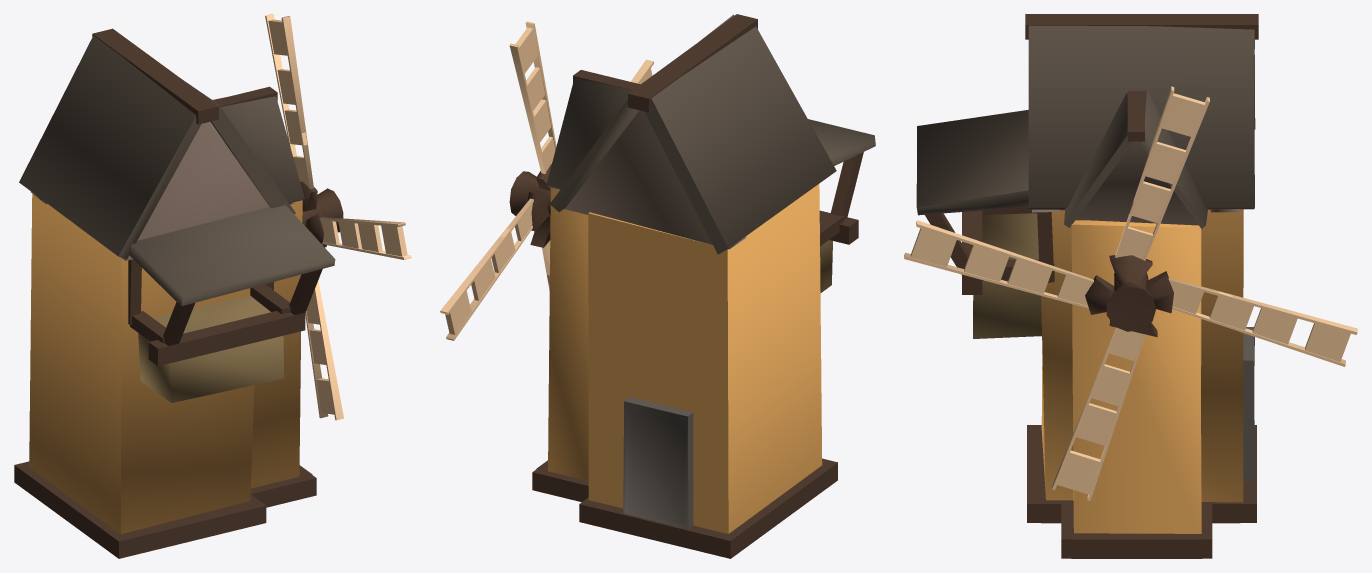
File: mill.fbx
3 renders of one model, left to right at view 1: azimuth 30°, elevation 25°; view 2: azimuth 150°, elevation 25°; view 3: azimuth 270°, elevation 25°, orthographic. The views are drawn at different scales.
Visible parts, largest first — view 1: mill; view 2: mill; view 3: mill.
Part boxes in pixels (x1,y1,x2,y2): mill: (14, 14, 411, 558); mill: (440, 14, 875, 558); mill: (904, 14, 1357, 558).
Bounding box in the file's own units: 658 × 1052 × 898.
